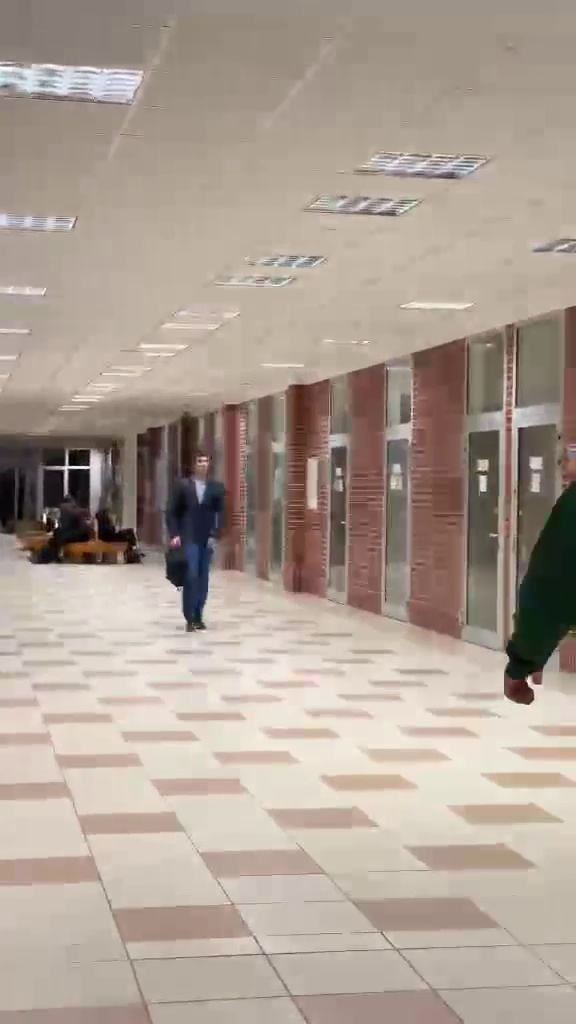no vest: (155, 446, 243, 626)
